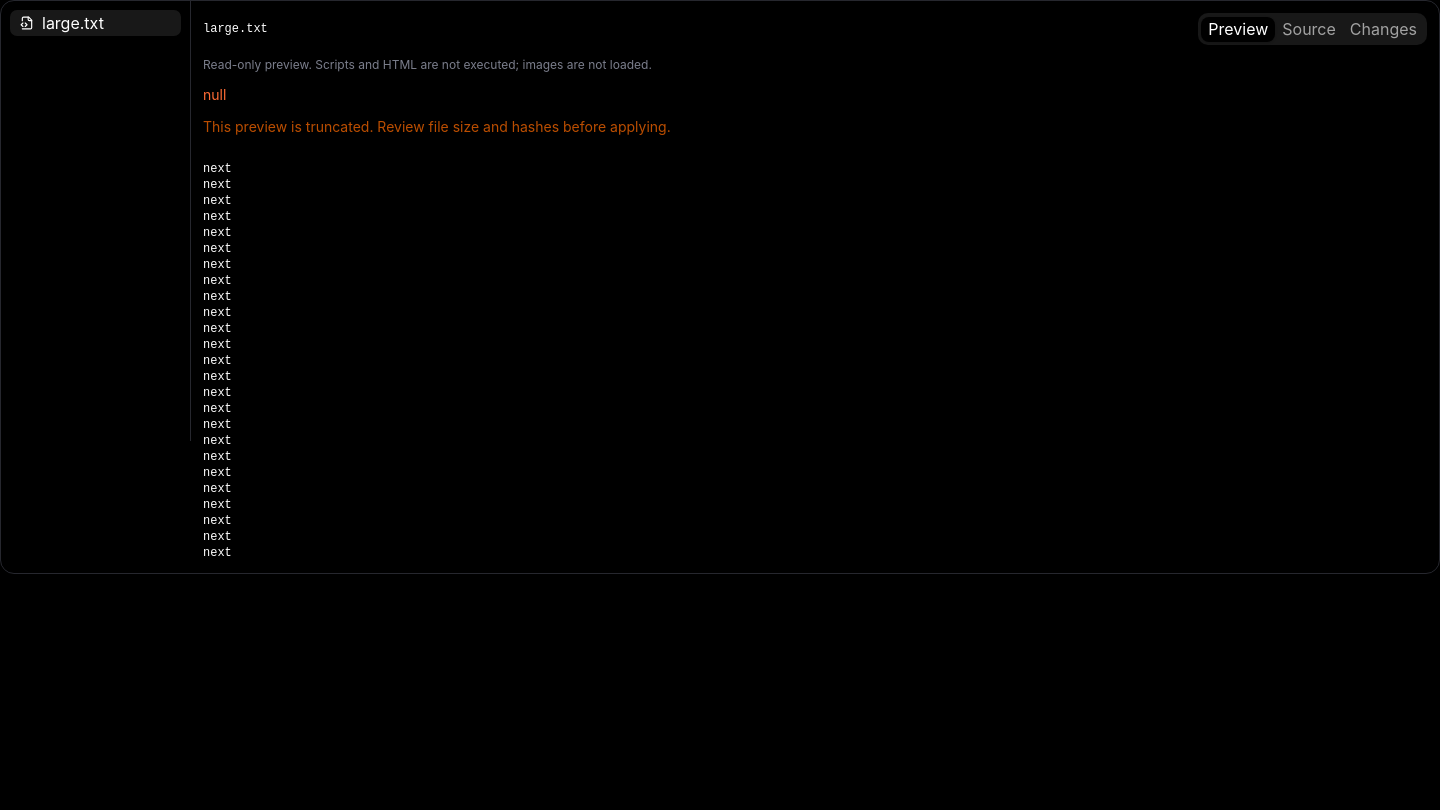
Test: Skill content preview › shows explicit truncation and a bounded fallback for large changes
The image size is (1440, 810).
Expected: the text "This preview is truncated" is shown, [203,118,671,135]
Click the tab "Changes".
click(1383, 29)  # box [1343,16,1424,42]
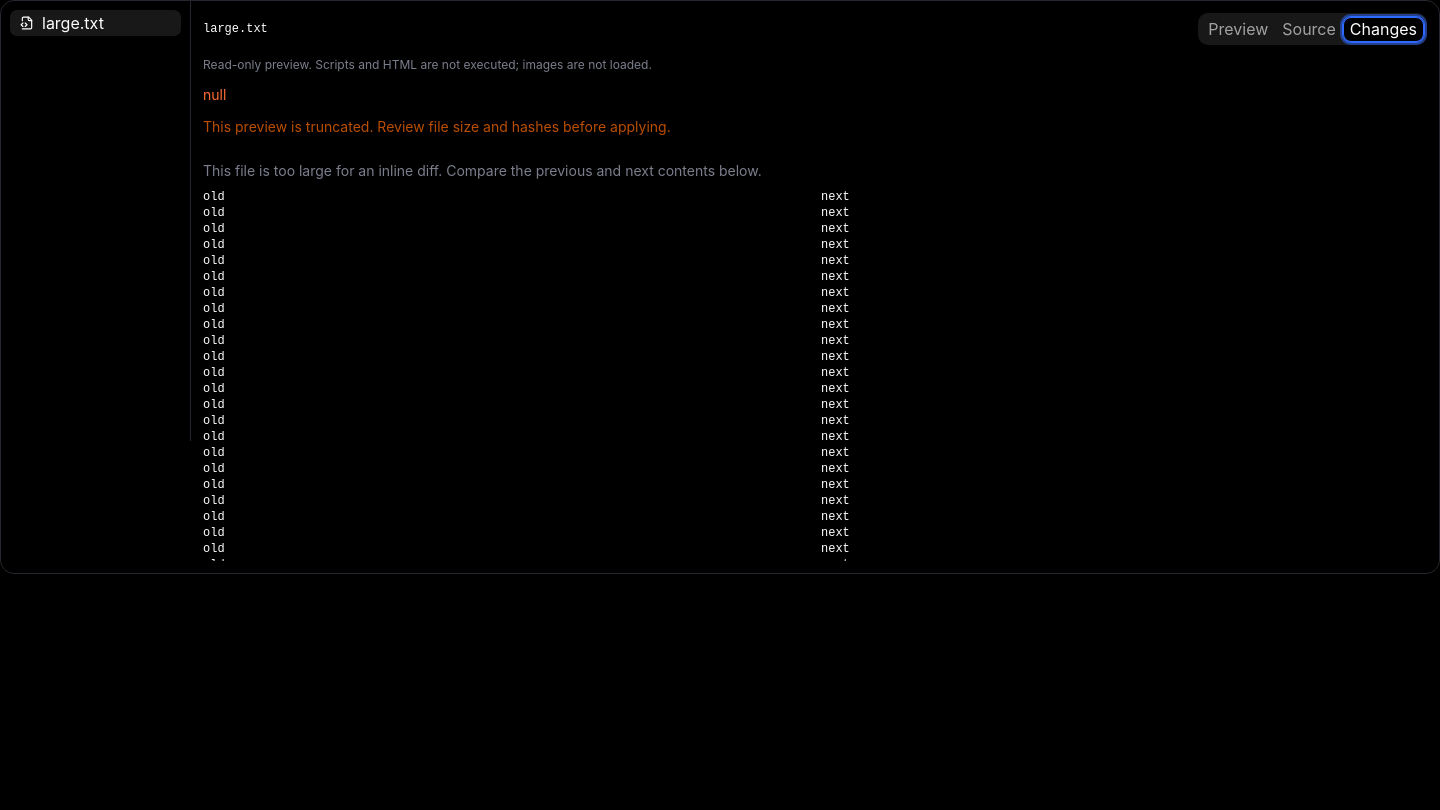
Now the text "too large for an inline diff" is shown, box [203,162,762,179]
